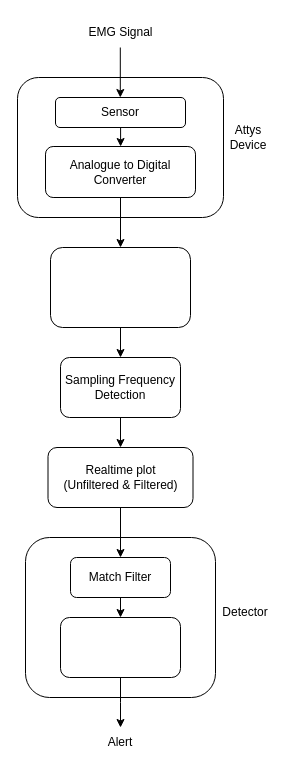
This 296x774 diagram has some shape labels left out. The shapes that lost their labels are listed below. From the top down, each one's centre as x and y in pixels, then its label:
(120,287): Filter (DC, 50Hz noise, ECG and EMG artefacts)
(120,647): Threshold and Heuristics
